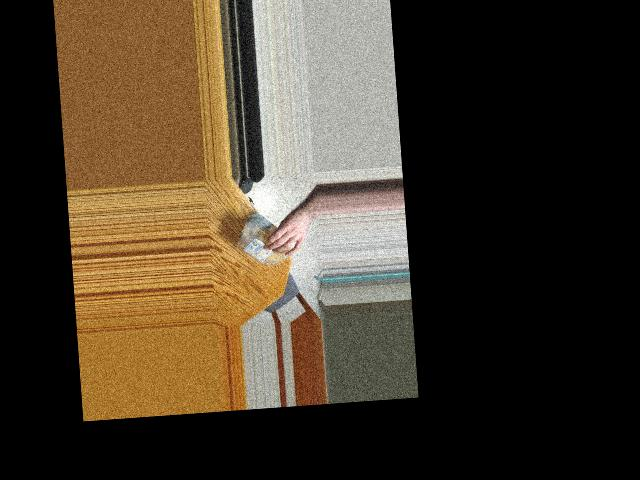cheese: (233, 213, 303, 270)
